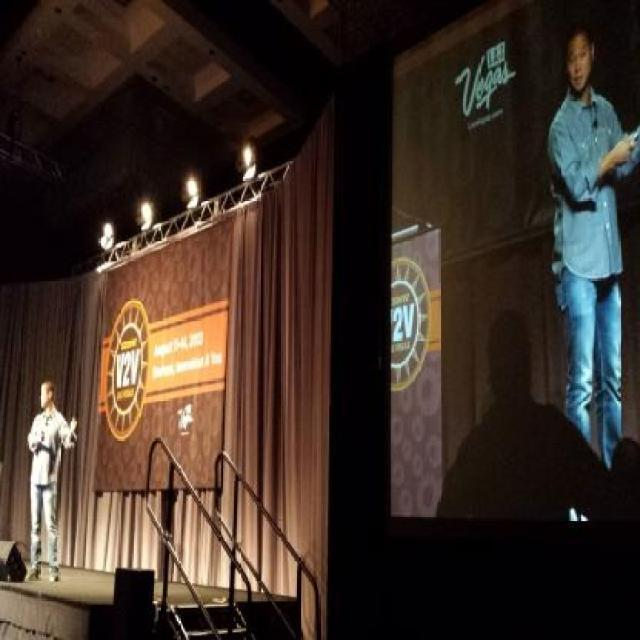stair: (156, 598, 256, 640)
